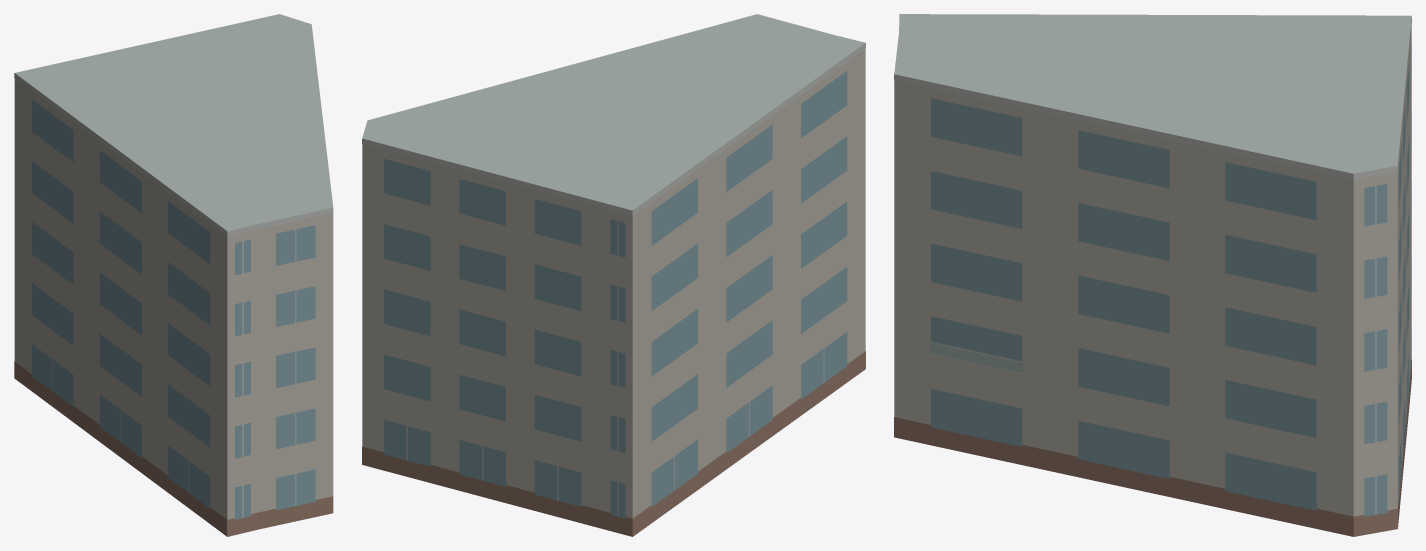
Rendered from survey-upis-32560297.glb.
The picture shows the model from 3 angles, left to right: view 1: azimuth 30°, elevation 25°; view 2: azimuth 150°, elevation 25°; view 3: azimuth 270°, elevation 25°; orthographic projection. The views are drawn at different scales.
Parts seen in each view (by area): view 1: survey-upis-32560297.tmp; view 2: survey-upis-32560297.tmp; view 3: survey-upis-32560297.tmp.
Boxes of the visible parts, <box> form: survey-upis-32560297.tmp: <box>14,14,333,536</box>; survey-upis-32560297.tmp: <box>362,14,865,536</box>; survey-upis-32560297.tmp: <box>894,14,1411,536</box>.
Size of the model in its own units: 13.27 by 14.05 by 18.16.
